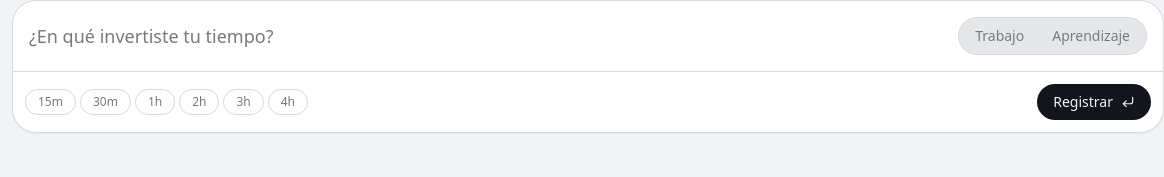
Test case: QuickEntryBar › shows a non-blocking Spanish toast on storage failure and keeps form state
Click the radio button labelled "Trabajo" at (1000, 36), box [963, 22, 1036, 50]
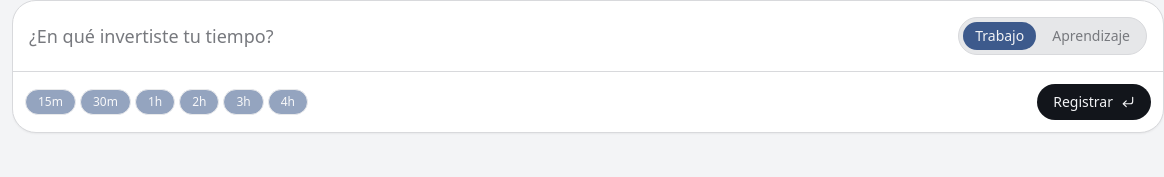
Type "Revisar correos" into the field named "Descripción" at (488, 36), box [29, 22, 946, 50]
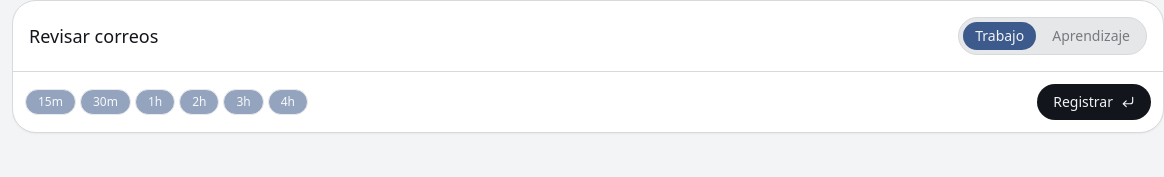
Click the button "1h" at (155, 102), box [135, 89, 175, 115]
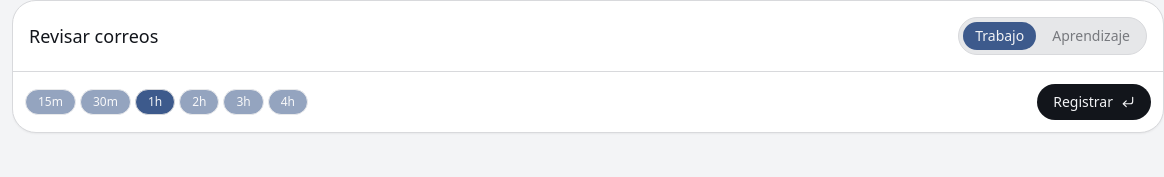
Click the button "Registrar" at (1094, 102), box [1037, 84, 1151, 120]
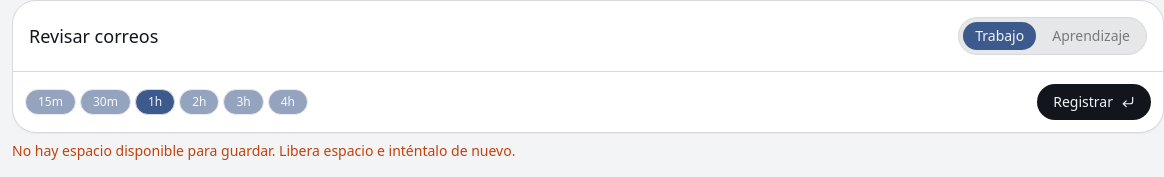
Now the message shows "espacio", box [12, 141, 516, 160]
